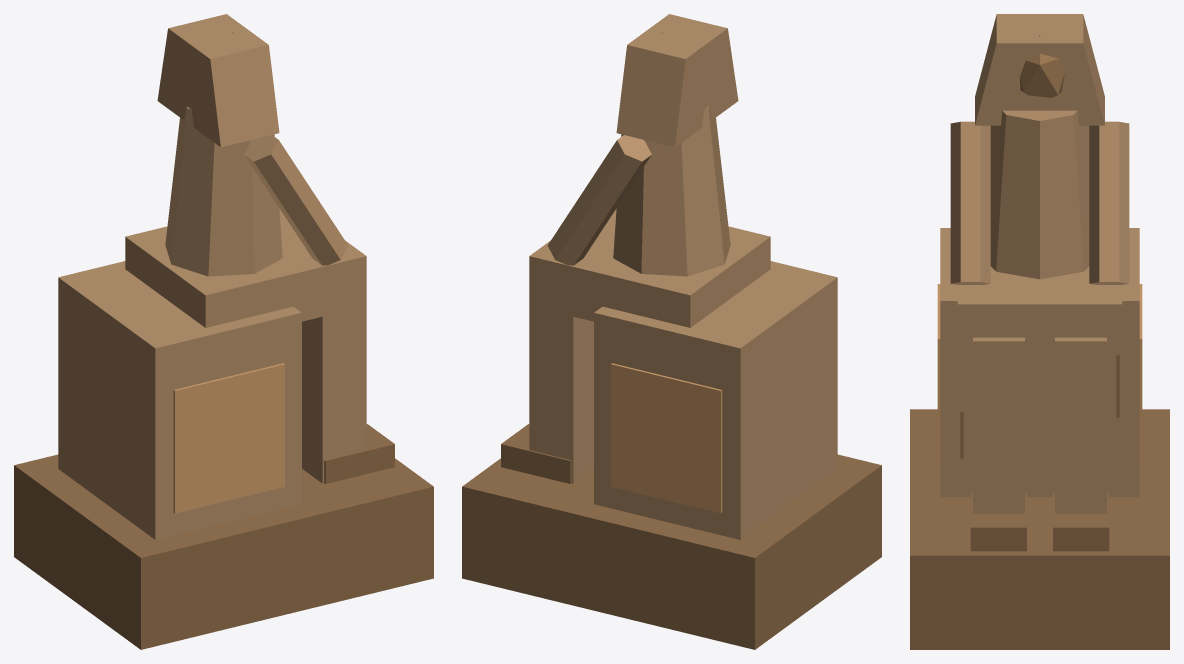
File: memnon.glb
3 renders of one model, left to right at view 1: azimuth 30°, elevation 25°; view 2: azimuth 150°, elevation 25°; view 3: azimuth 270°, elevation 25°, orthographic. The views are drawn at different scales.
Parts seen in each view (by area): view 1: memnon; view 2: memnon; view 3: memnon.
Boxes of the visible parts, left/top/right/bottom form: memnon: left=14, top=14, right=433, bottom=649; memnon: left=462, top=14, right=881, bottom=649; memnon: left=910, top=14, right=1169, bottom=649.
Bounding box in the file's own units: 10.4 × 18.1 × 7.8.
